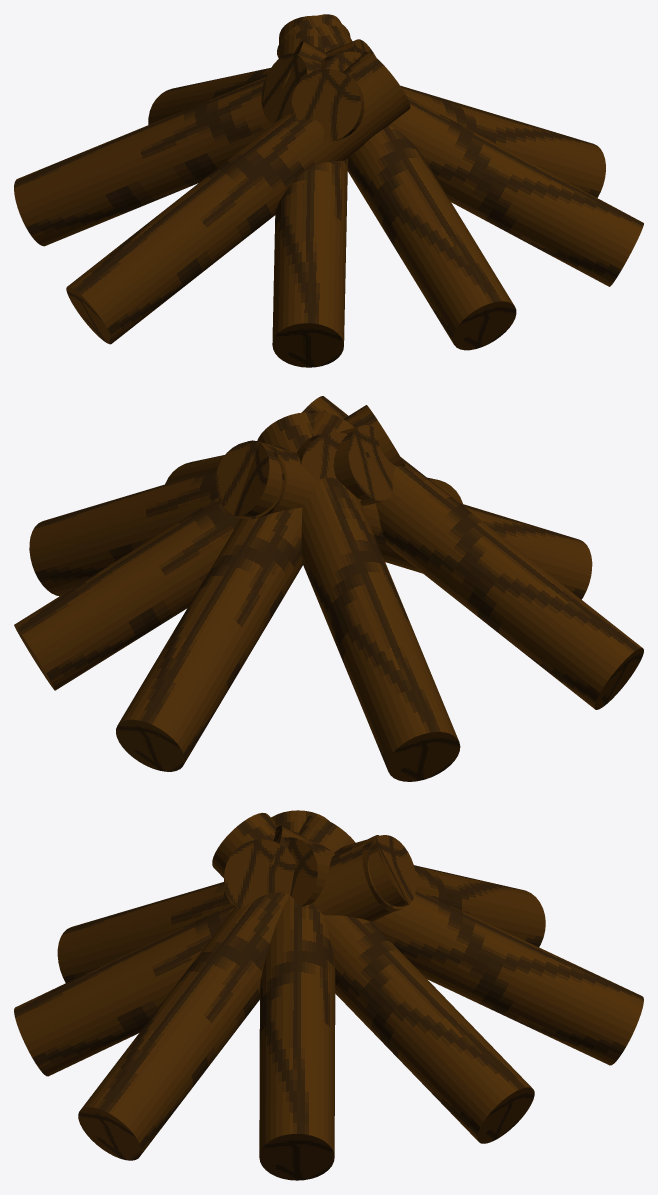
The model's file is ObjectUnlitCampfire.dae.
3 renders of one model, top to bottom at view 1: azimuth 30°, elevation 25°; view 2: azimuth 150°, elevation 25°; view 3: azimuth 270°, elevation 25°, orthographic. The views are drawn at different scales.
Visible parts, largest first — view 1: Cylinder.001, Cylinder.007, Cylinder.003, Cylinder.006, Cylinder.002, Cylinder.004, Cylinder.005, Cylinder; view 2: Cylinder.007, Cylinder.001, Cylinder, Cylinder.005, Cylinder.004, Cylinder.002, Cylinder.006, Cylinder.003; view 3: Cylinder.003, Cylinder.005, Cylinder, Cylinder.004, Cylinder.006, Cylinder.002, Cylinder.007, Cylinder.001.
Boxes of the visible parts, x1=… form: Cylinder.001: x1=66, y1=52, x2=410, y2=344; Cylinder.007: x1=14, y1=39, x2=376, y2=246; Cylinder.003: x1=277, y1=41, x2=643, y2=286; Cylinder.006: x1=277, y1=14, x2=516, y2=350; Cylinder.002: x1=272, y1=15, x2=350, y2=367; Cylinder.004: x1=261, y1=53, x2=605, y2=197; Cylinder.005: x1=291, y1=69, x2=364, y2=141; Cylinder: x1=148, y1=51, x2=362, y2=124; Cylinder.007: x1=257, y1=412, x2=460, y2=781; Cylinder.001: x1=302, y1=396, x2=643, y2=709; Cylinder: x1=116, y1=410, x2=354, y2=771; Cylinder.005: x1=14, y1=405, x2=405, y2=690; Cylinder.004: x1=29, y1=425, x2=396, y2=596; Cylinder.002: x1=225, y1=440, x2=592, y2=599; Cylinder.006: x1=215, y1=441, x2=462, y2=519; Cylinder.003: x1=165, y1=432, x2=372, y2=501; Cylinder.003: x1=78, y1=816, x2=355, y2=1160; Cylinder.005: x1=212, y1=812, x2=534, y2=1143; Cylinder: x1=269, y1=825, x2=643, y2=1065; Cylinder.004: x1=259, y1=810, x2=335, y2=1180; Cylinder.006: x1=14, y1=835, x2=410, y2=1076; Cylinder.002: x1=57, y1=835, x2=416, y2=982; Cylinder.007: x1=275, y1=837, x2=545, y2=947; Cylinder.001: x1=224, y1=839, x2=295, y2=909.
Size of the model in its own units: 3.55 by 3.41 by 1.39.
1 material, 1 textured.
